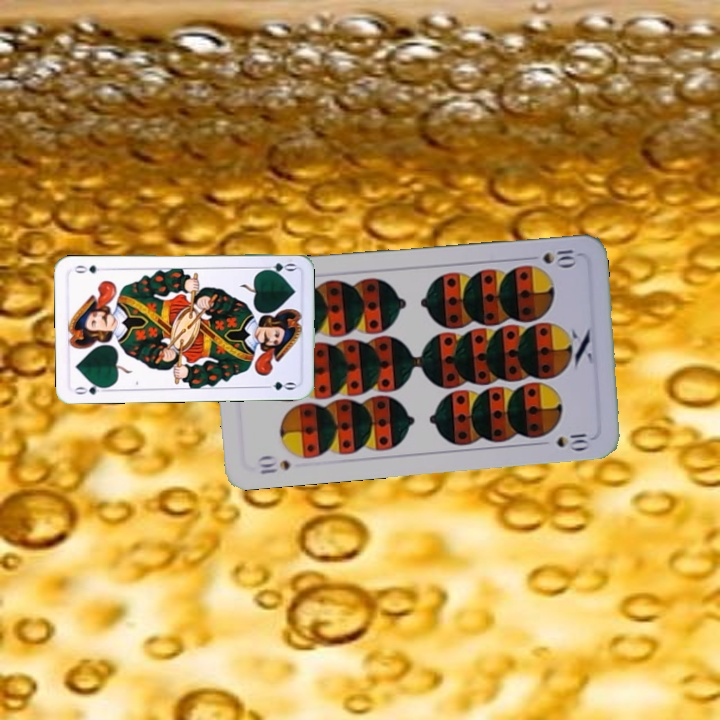GO: (71, 379, 111, 397), (257, 259, 298, 275)
S10: (522, 246, 581, 268), (253, 452, 293, 477)
